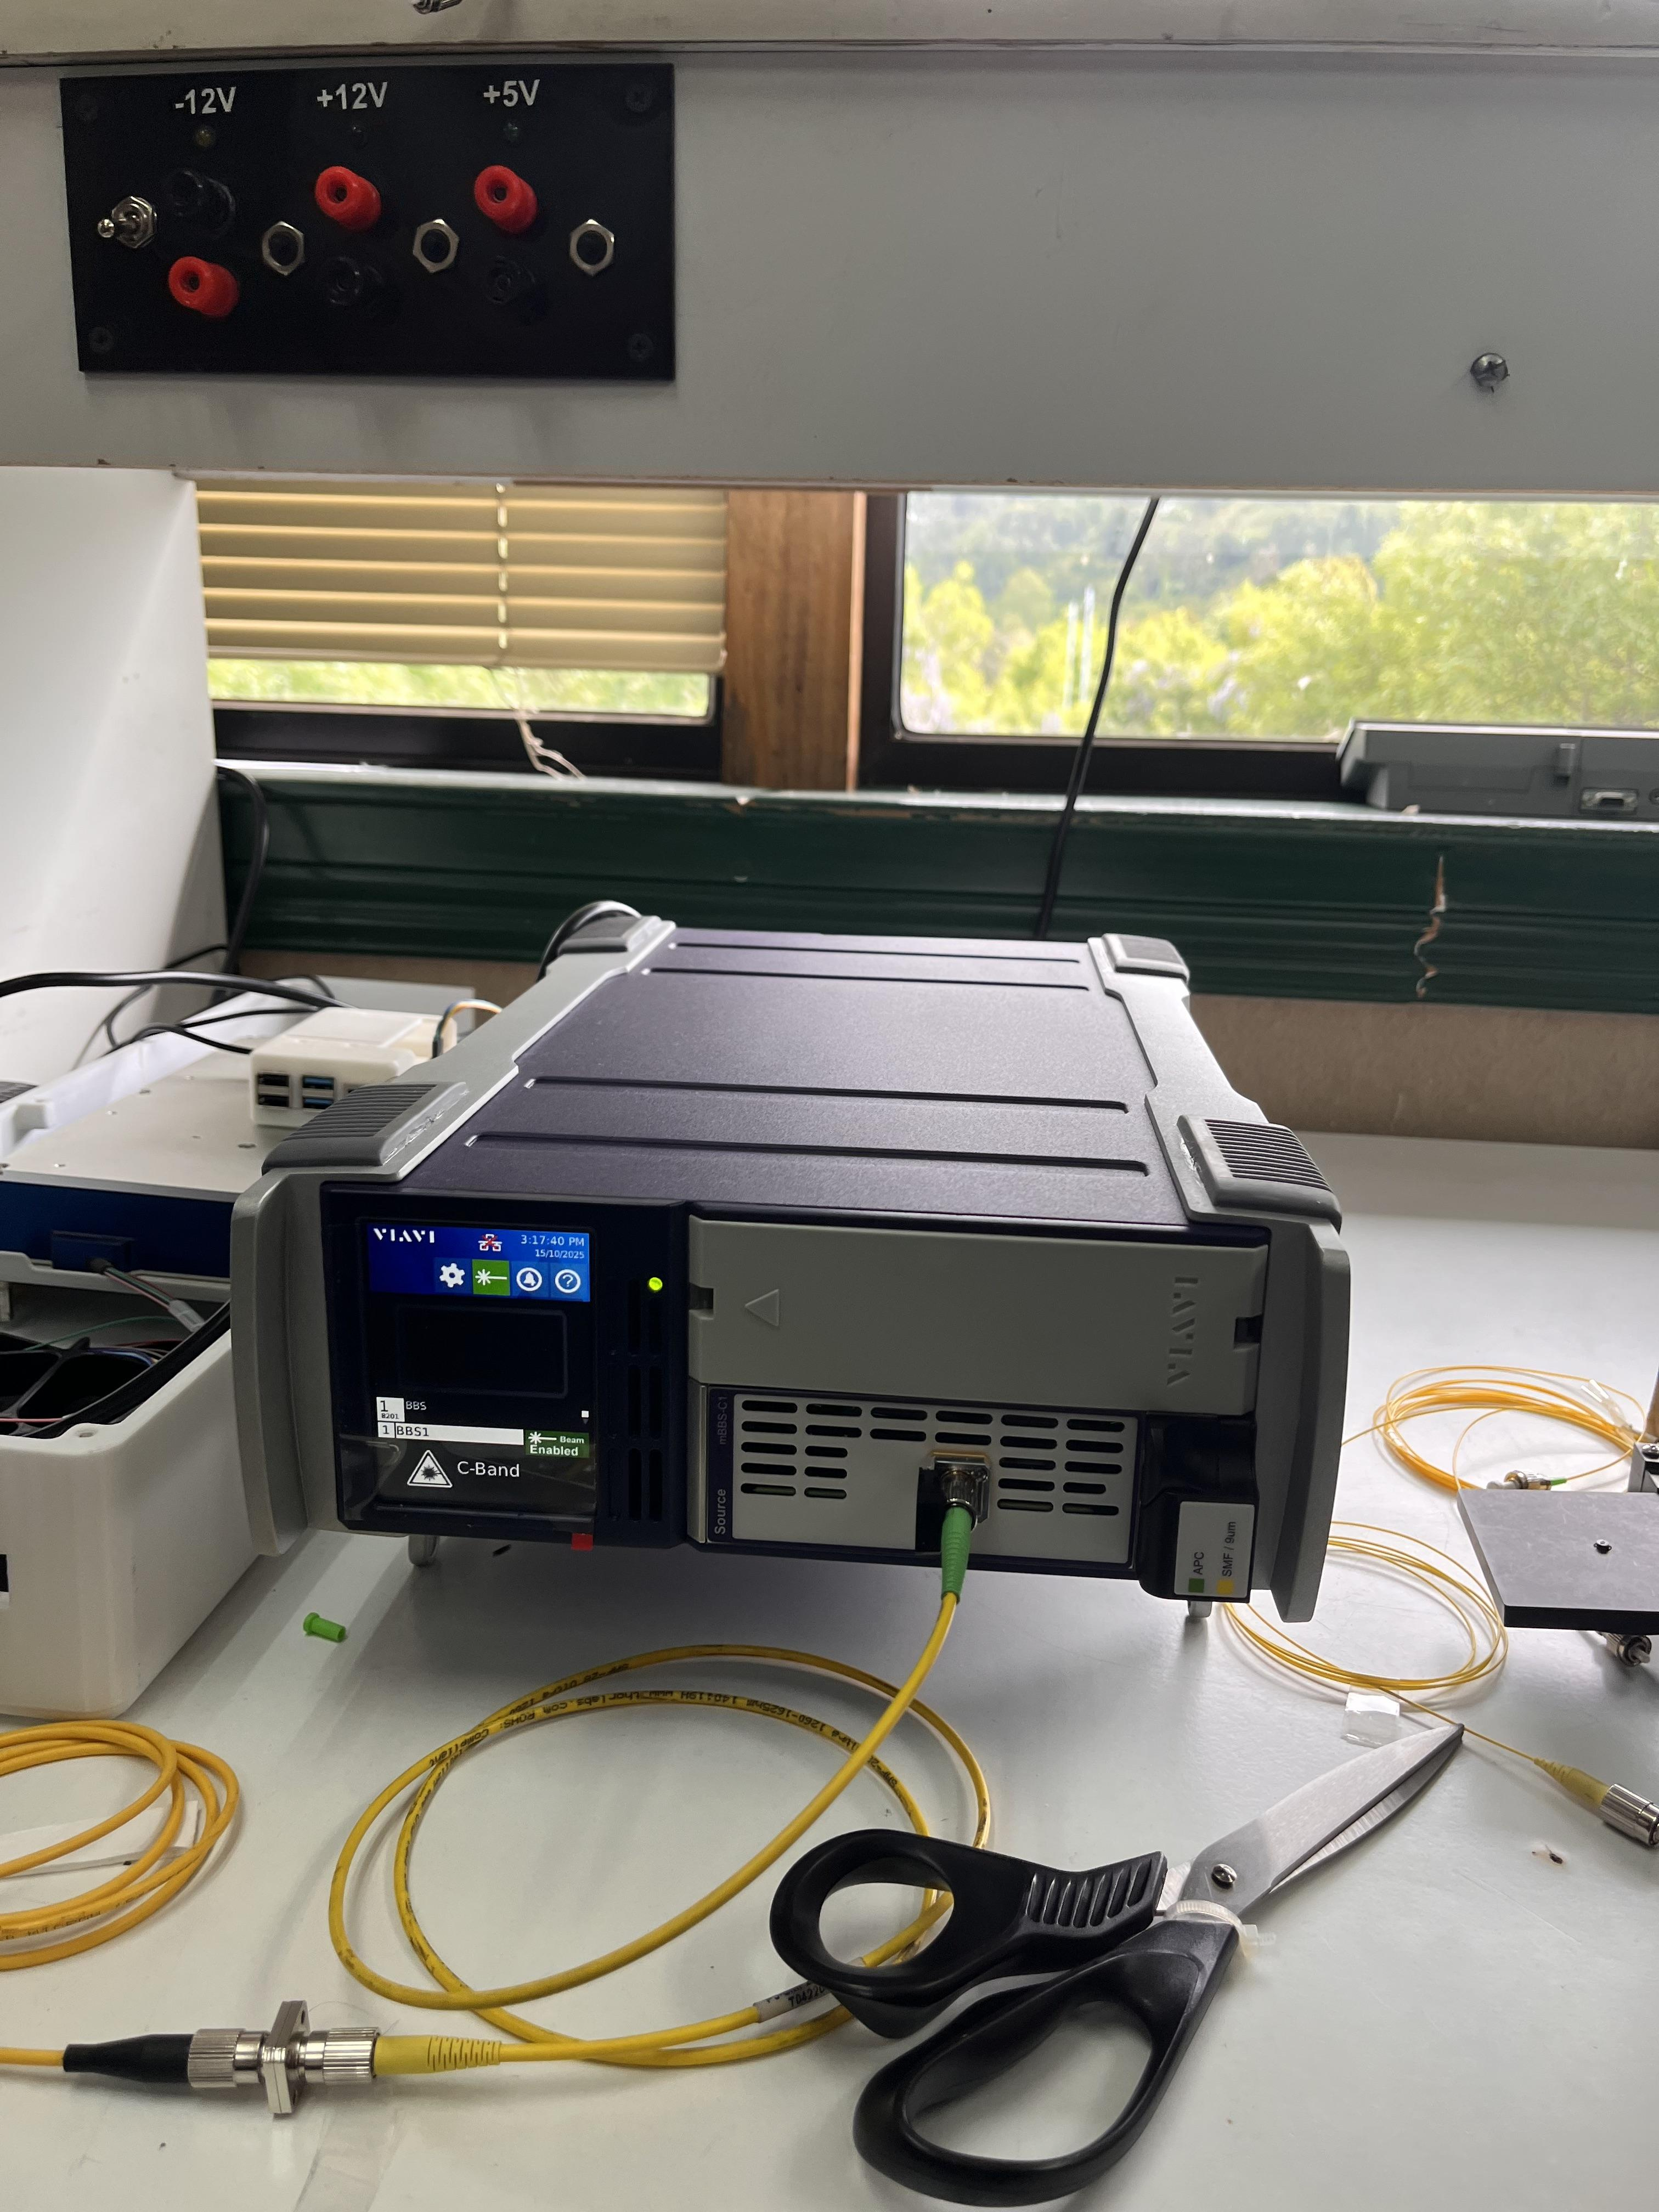laser: (206, 892, 1371, 1639)
